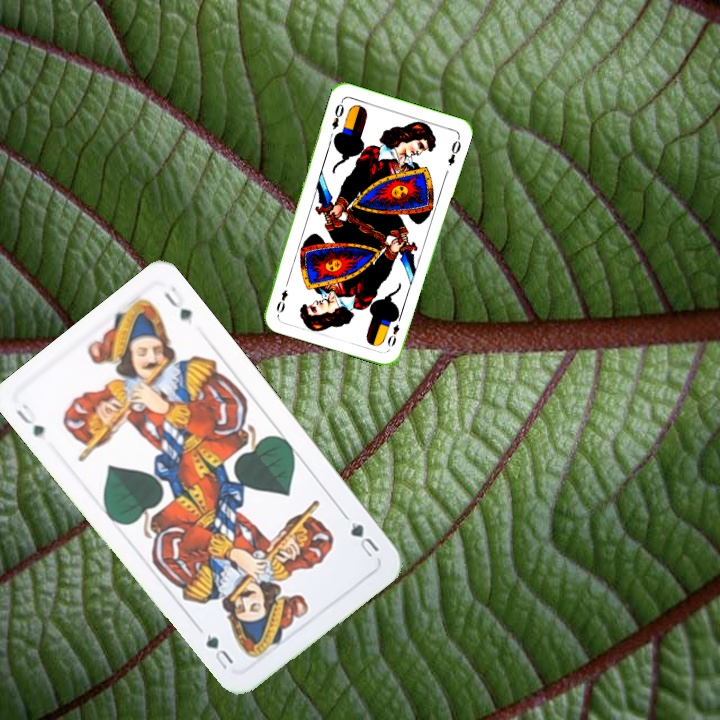EO: (328, 96, 346, 132), (383, 320, 402, 349)
GU: (340, 510, 382, 560), (11, 399, 48, 440)
